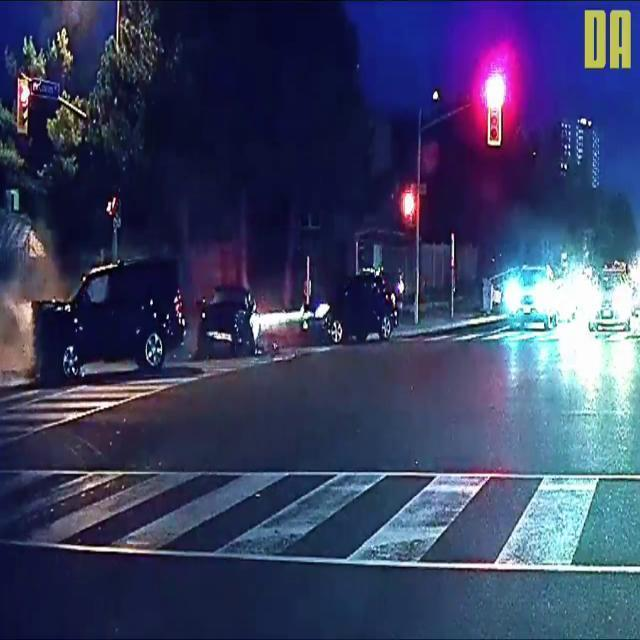accident: (18, 256, 400, 384)
non-accident: (498, 264, 640, 336)
